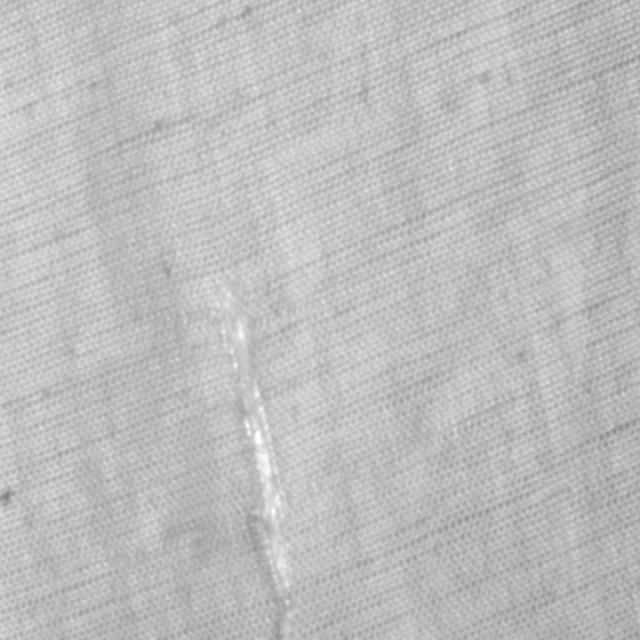thread error: (204, 272, 299, 638)
